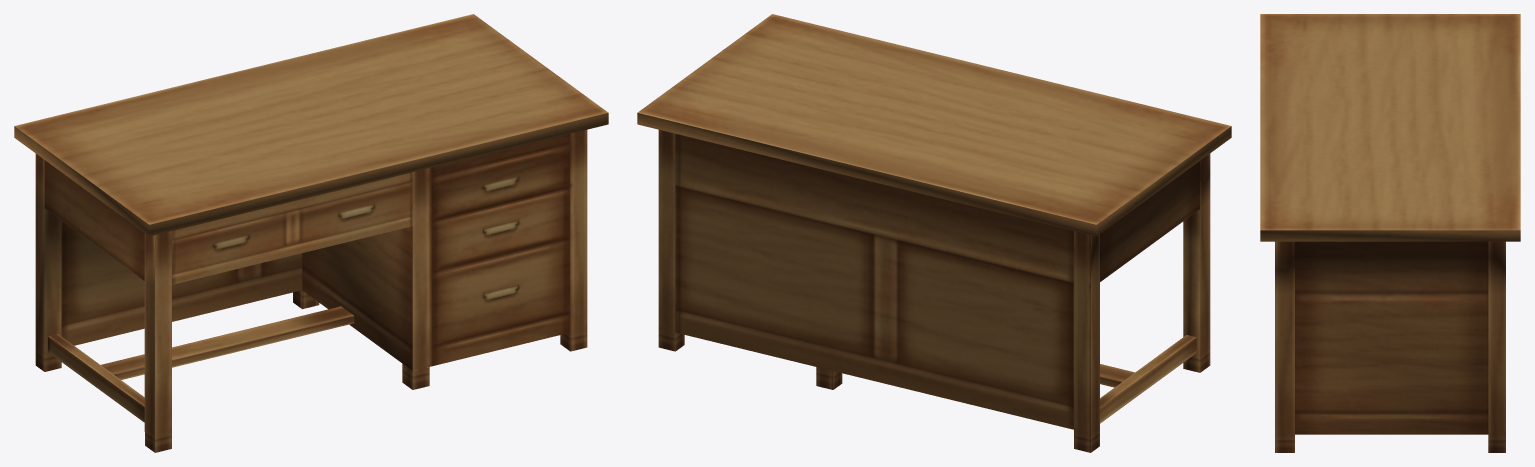
Rendered from a_SWGdesk02A.glb.
3 renders of one model, left to right at view 1: azimuth 30°, elevation 25°; view 2: azimuth 150°, elevation 25°; view 3: azimuth 270°, elevation 25°, orthographic. The views are drawn at different scales.
Visible parts, largest first — view 1: a_SWGdesk02A; view 2: a_SWGdesk02A; view 3: a_SWGdesk02A.
Boxes of the visible parts, x1,y1,x2,y2 form: a_SWGdesk02A: (14, 14, 608, 452); a_SWGdesk02A: (637, 14, 1231, 452); a_SWGdesk02A: (1260, 14, 1520, 452).
Bounding box in the file's own units: 1.98 × 0.9763 × 1.01.
1 material, 1 textured.
